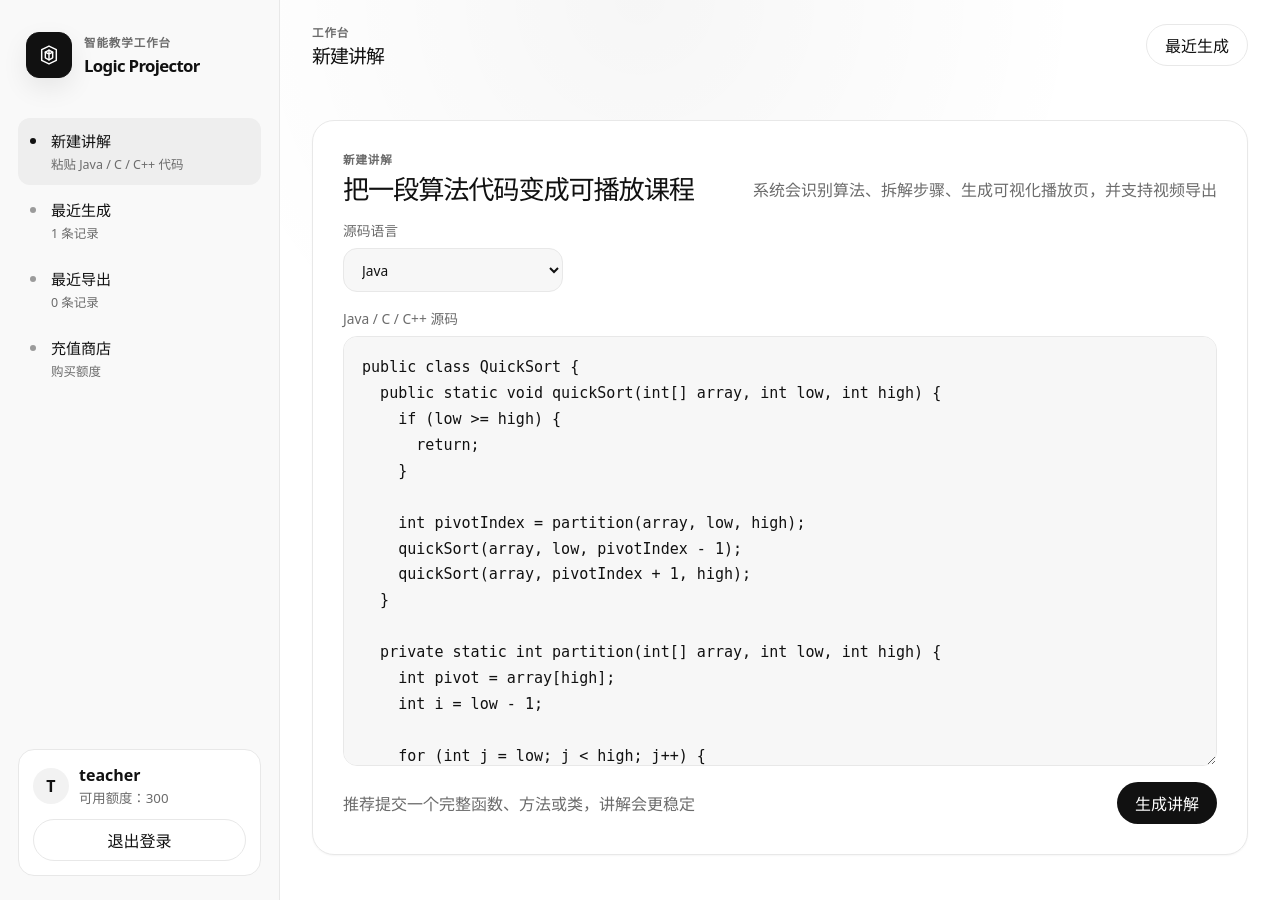
Test: App › loads a recent generation from the sidebar
Click the button with class "sidebar-nav-item" showing "最近生成 1 条记录" at (140, 220), box [18, 187, 261, 254]
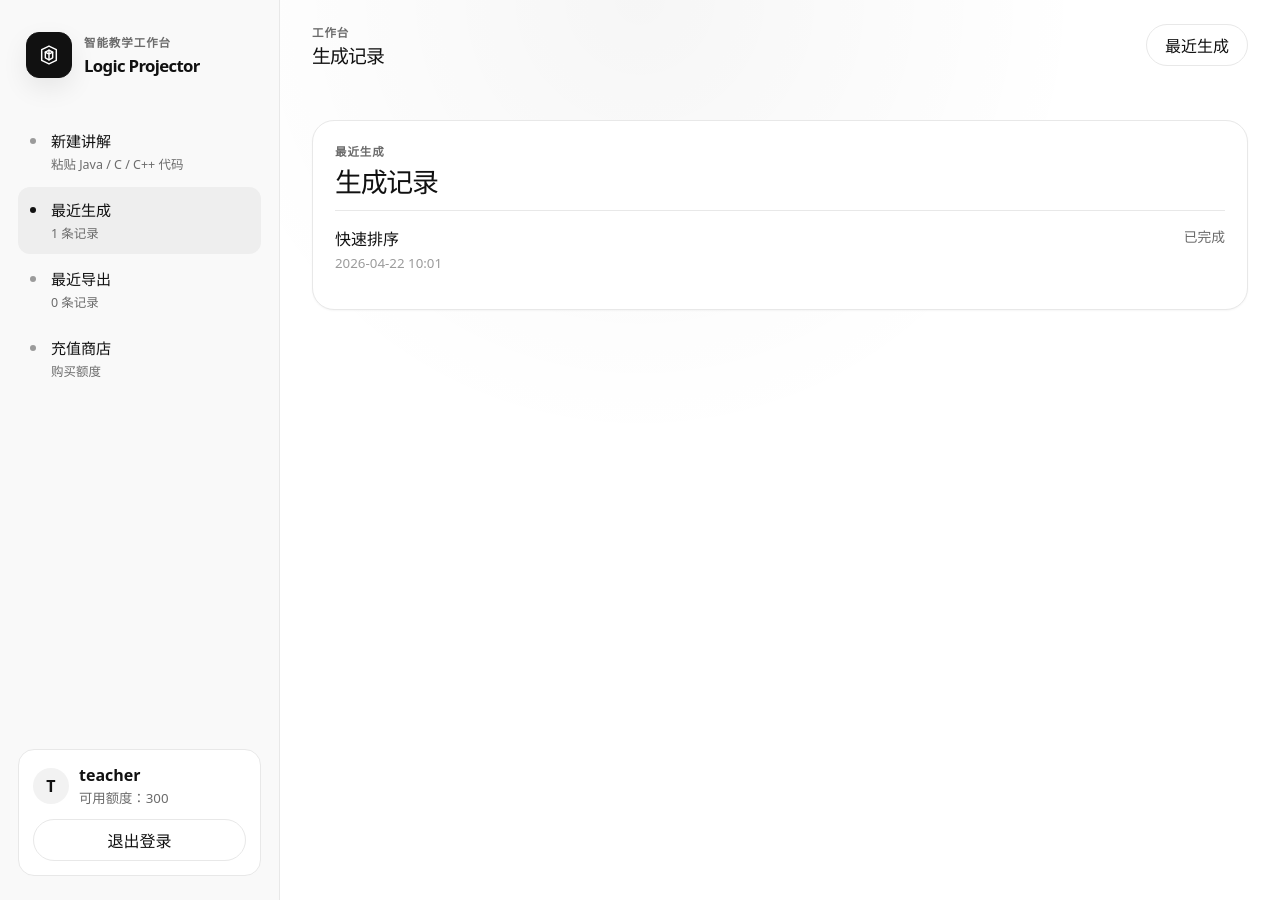
Click the button "快速排序 已完成 2026-04-22 10:01" at (367, 239), box [335, 210, 1225, 287]
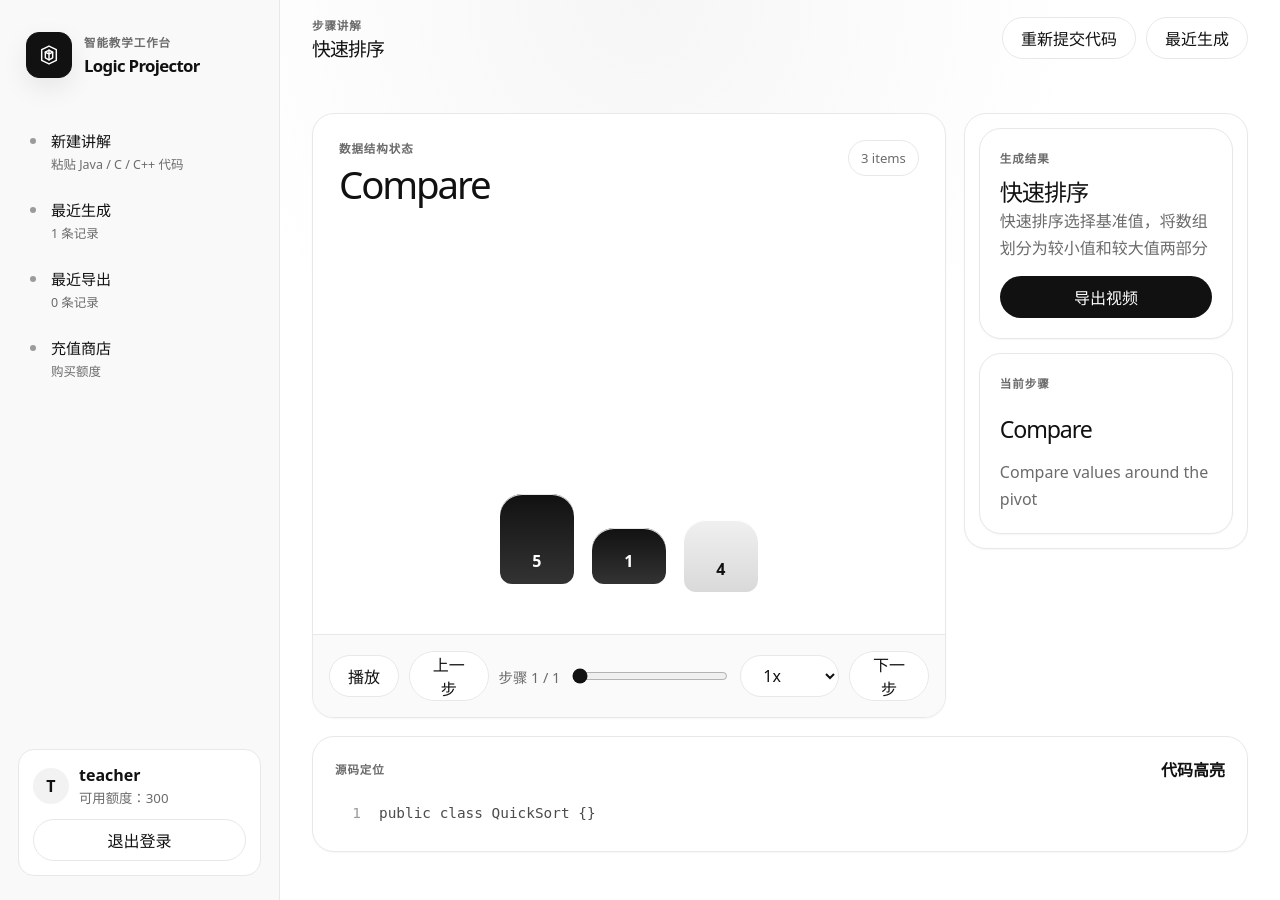
Expected: the text "快速排序" is shown, [312, 39, 384, 59]
Expected: the text "步骤讲解" is shown, [312, 18, 362, 33]
Expected: the element showing "数据结构状态 Compare 3 items 5 1 4" is shown, [313, 114, 945, 634]
